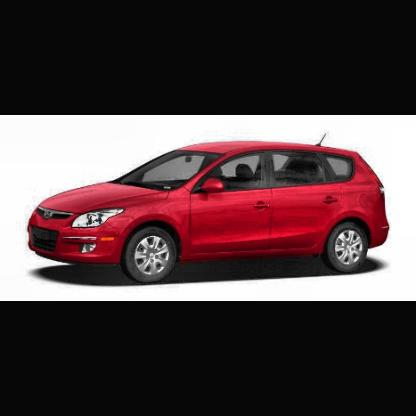Hyundai Elantra Touring Hatchback 2012: (28, 143, 393, 284)
